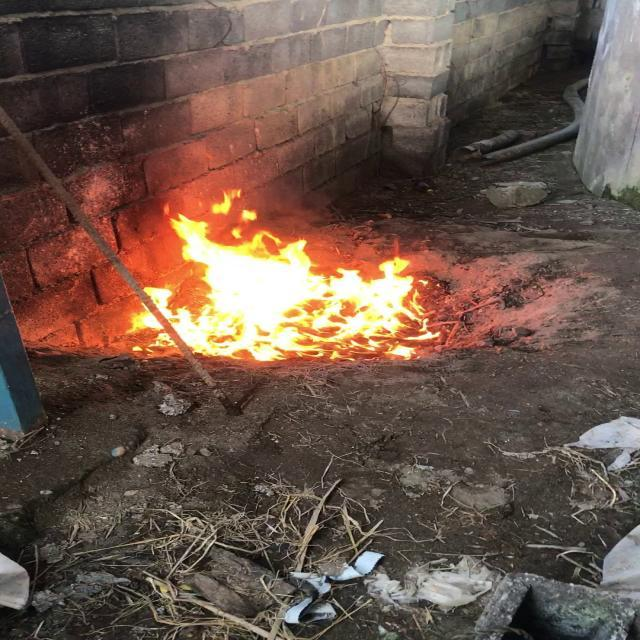Fire: (102, 220, 450, 367)
